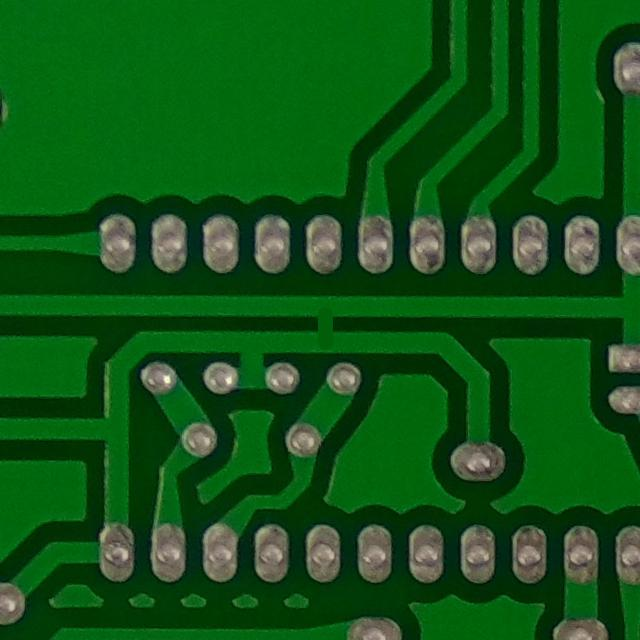short: (291, 290, 349, 350)
